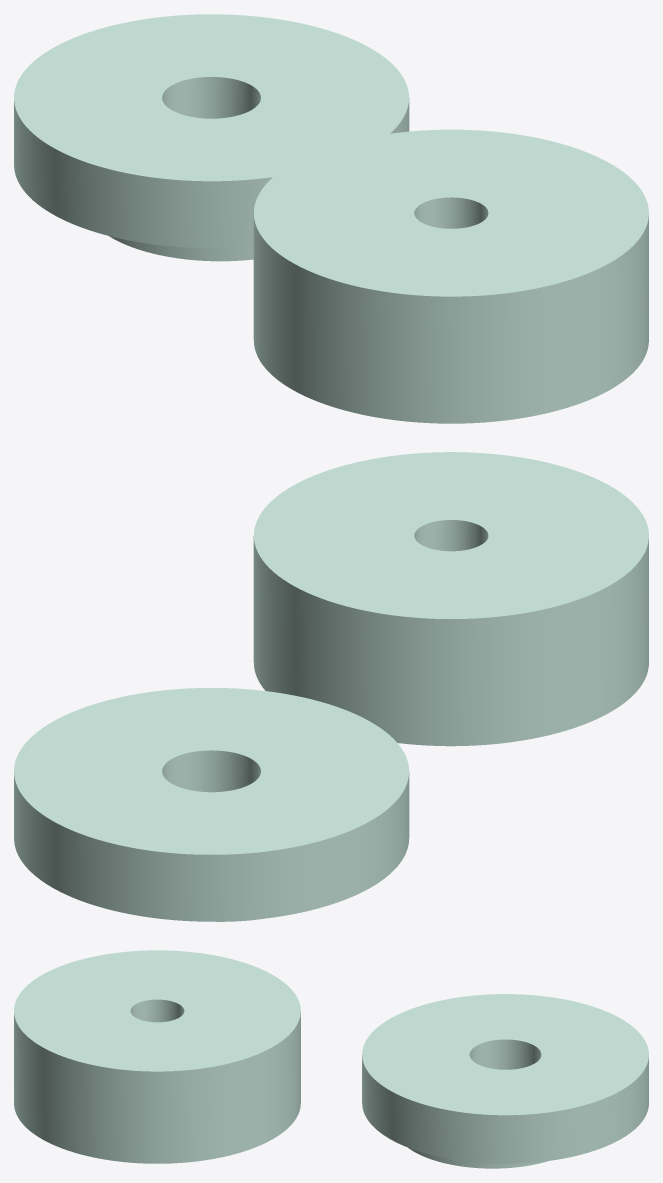
3 views of the same model, one above another, from view 1: azimuth 30°, elevation 25°; view 2: azimuth 150°, elevation 25°; view 3: azimuth 270°, elevation 25° (orthographic). The views are drawn at different scales.
Visible parts, largest first — view 1: Renderer Node; view 2: Renderer Node; view 3: Renderer Node.
Boxes of the visible parts, <box> form: Renderer Node: <box>14,14,648,423</box>; Renderer Node: <box>14,452,648,921</box>; Renderer Node: <box>14,950,648,1168</box>.
Bounding box in the file's own units: 0.4183 × 0.1875 × 0.9262.
